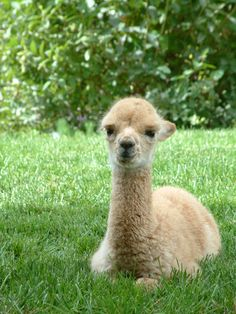alpaca: (90, 95, 221, 286)
